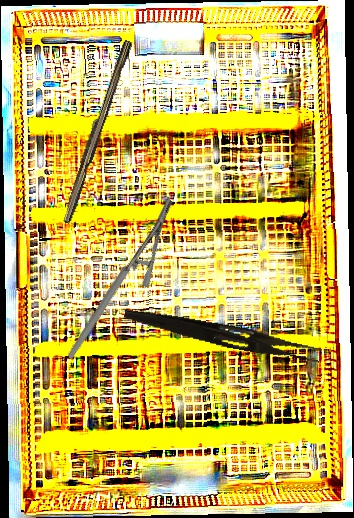Dressing Forceps: (122, 306, 323, 364)
Needle Holder: (27, 195, 212, 361)
Scalpel Handle: (59, 37, 133, 226)
